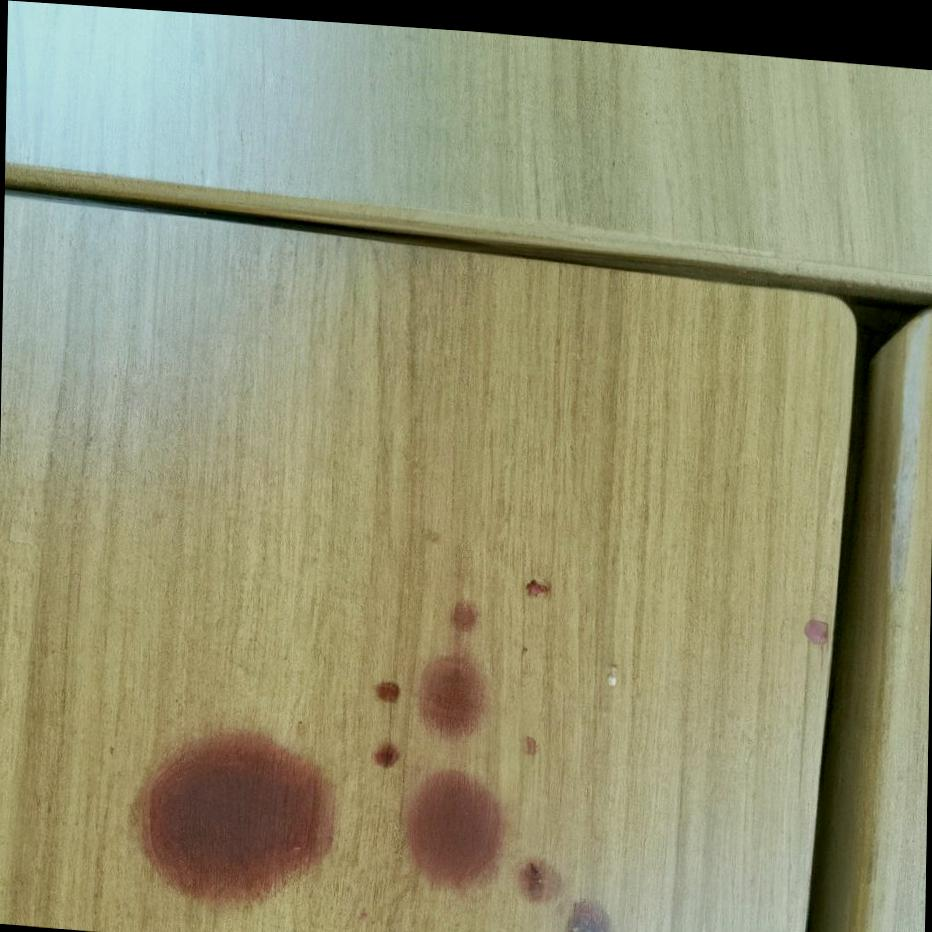Fire: (137, 725, 339, 903), (404, 762, 508, 887), (418, 593, 491, 739), (515, 850, 562, 897), (374, 738, 401, 764), (376, 677, 401, 698)
